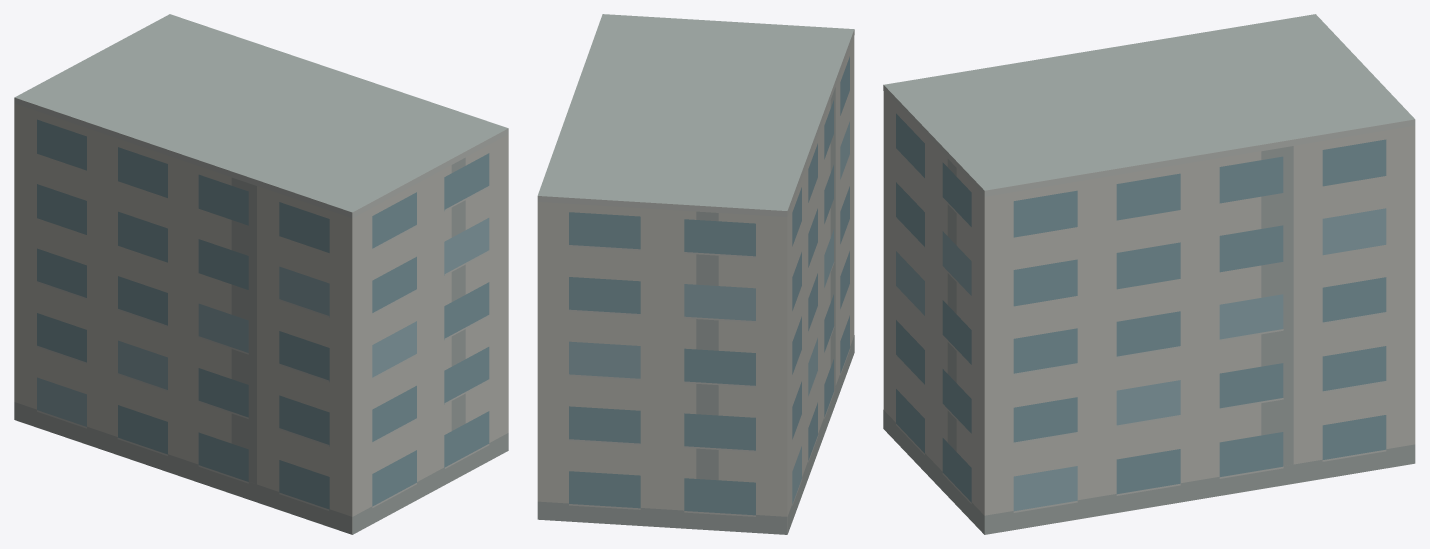
Rendered from survey-upis-32894157.glb.
3 renders of one model, left to right at view 1: azimuth 30°, elevation 25°; view 2: azimuth 150°, elevation 25°; view 3: azimuth 270°, elevation 25°, orthographic. The views are drawn at different scales.
Visible parts, largest first — view 1: survey-upis-32894157.tmp; view 2: survey-upis-32894157.tmp; view 3: survey-upis-32894157.tmp.
Boxes of the visible parts, box(x1,y1,x2,y2) form: survey-upis-32894157.tmp: box(14, 14, 508, 534); survey-upis-32894157.tmp: box(537, 14, 854, 534); survey-upis-32894157.tmp: box(883, 14, 1415, 534).
Size of the model in its own units: 14.43 by 13.1 by 18.35.
